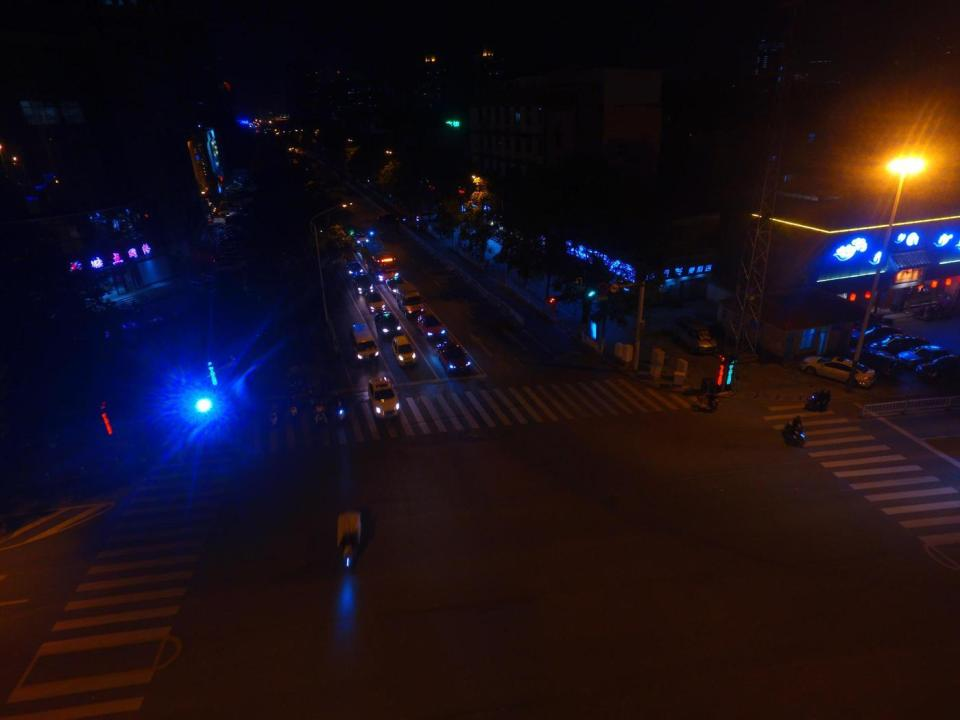bus: (365, 240, 397, 280)
car: (800, 353, 876, 388), (848, 345, 904, 380), (866, 334, 930, 364), (846, 323, 906, 351), (899, 345, 959, 372), (914, 353, 960, 387), (368, 376, 400, 420), (437, 340, 470, 374), (686, 324, 717, 353), (416, 314, 445, 340), (394, 336, 417, 367), (375, 312, 401, 338), (804, 396, 830, 413), (366, 292, 386, 314), (386, 276, 409, 295), (345, 260, 363, 276), (352, 230, 370, 246), (356, 277, 372, 294)
van: (348, 322, 380, 366), (396, 284, 423, 314)
